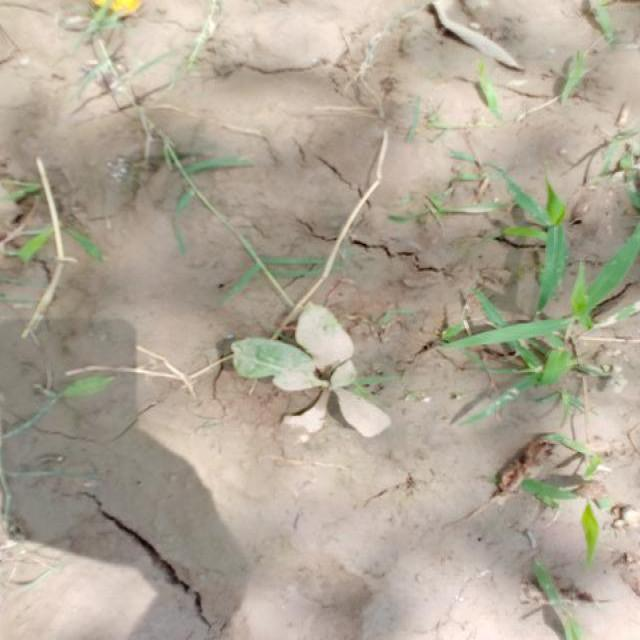crop: (233, 323, 395, 453)
